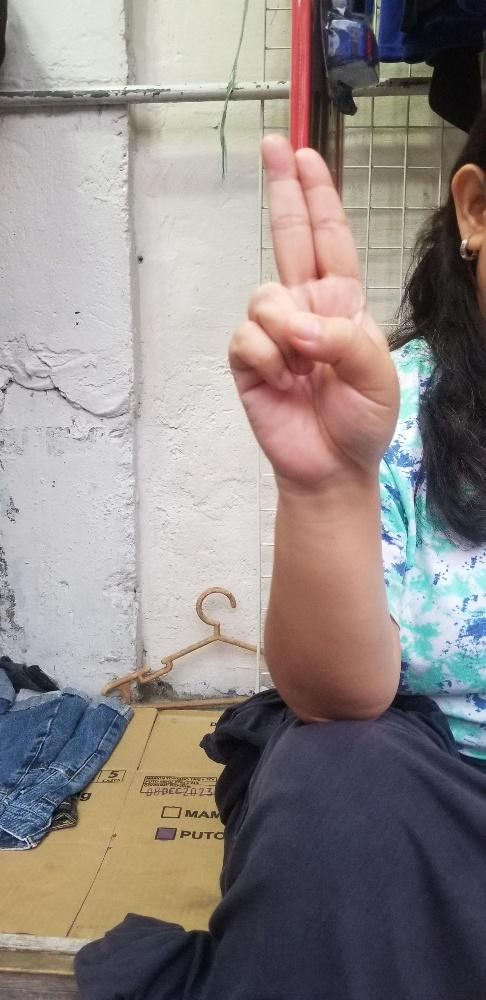u: (226, 132, 402, 482)
